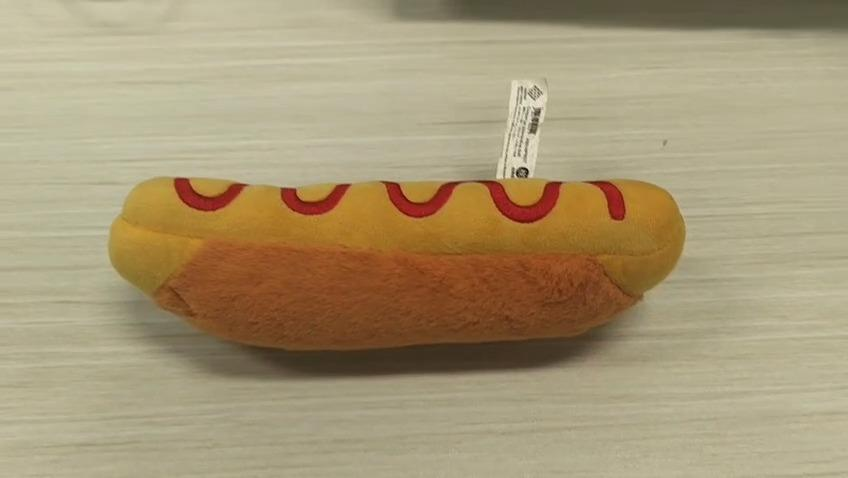hotdog: (106, 178, 686, 353)
